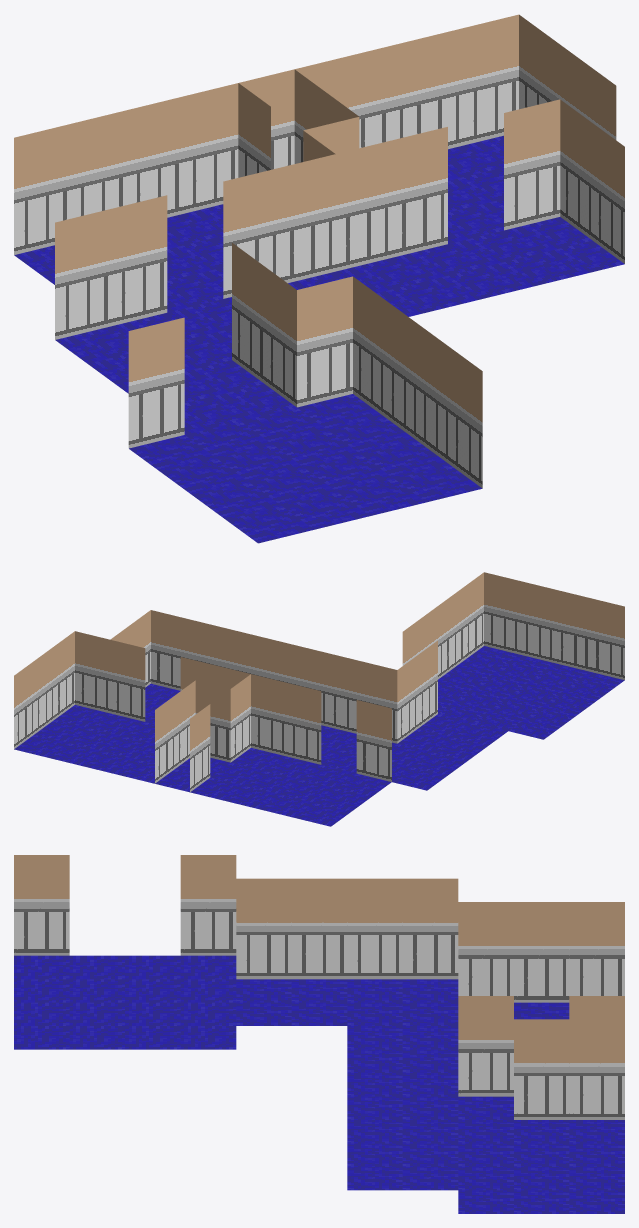
File: SampleRoom.gltf
The picture shows the model from 3 angles, top to bottom: view 1: azimuth 30°, elevation 25°; view 2: azimuth 150°, elevation 25°; view 3: azimuth 270°, elevation 25°; orthographic projection. The views are drawn at different scales.
Parts seen in each view (by area): view 1: default; view 2: default; view 3: default.
Boxes of the visible parts, <box> form: default: <box>14,14,624,543</box>; default: <box>14,572,624,826</box>; default: <box>14,855,624,1213</box>.
Size of the model in its own units: 11 by 2 by 11.
3 materials, 3 textured.
